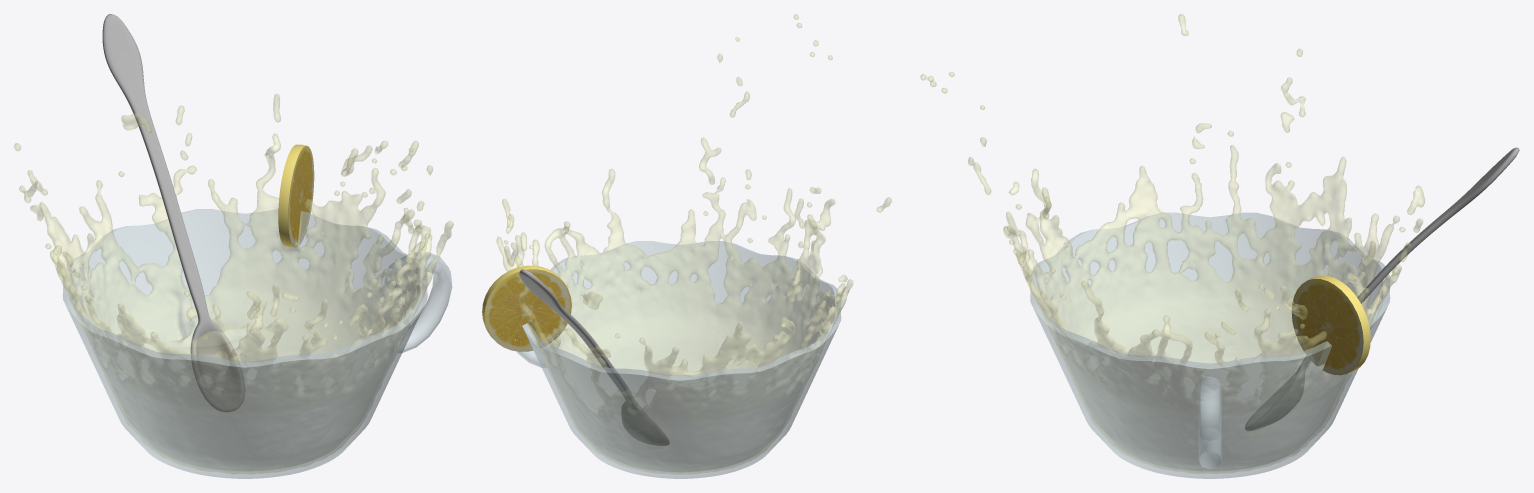
The model's file is tea.glb.
The picture shows the model from 3 angles, left to right: view 1: azimuth 30°, elevation 25°; view 2: azimuth 150°, elevation 25°; view 3: azimuth 270°, elevation 25°; orthographic projection. The views are drawn at different scales.
Parts seen in each view (by area): view 1: Tee, Tasse, Loeffel, Lemon, Henkel; view 2: Tee, Tasse, Lemon, Loeffel; view 3: Tee, Tasse, Lemon, Loeffel, Henkel.
Boxes of the visible parts, left/top/right/bottom form: Tee: left=14, top=94, right=453, bottom=474; Tasse: left=62, top=209, right=427, bottom=478; Loeffel: left=102, top=14, right=244, bottom=411; Lemon: left=278, top=144, right=314, bottom=247; Henkel: left=384, top=252, right=452, bottom=352; Tee: left=496, top=14, right=891, bottom=474; Tasse: left=522, top=241, right=841, bottom=478; Lemon: left=482, top=265, right=571, bottom=351; Loeffel: left=519, top=269, right=669, bottom=445; Tee: left=920, top=14, right=1424, bottom=473; Tasse: left=1030, top=212, right=1390, bottom=478; Lemon: left=1291, top=275, right=1370, bottom=375; Loeffel: left=1245, top=147, right=1519, bottom=430; Henkel: left=1198, top=376, right=1221, bottom=468.
Size of the model in its own units: 1.33 by 1.11 by 1.63.
Materials: 4 (1 with a texture image).
